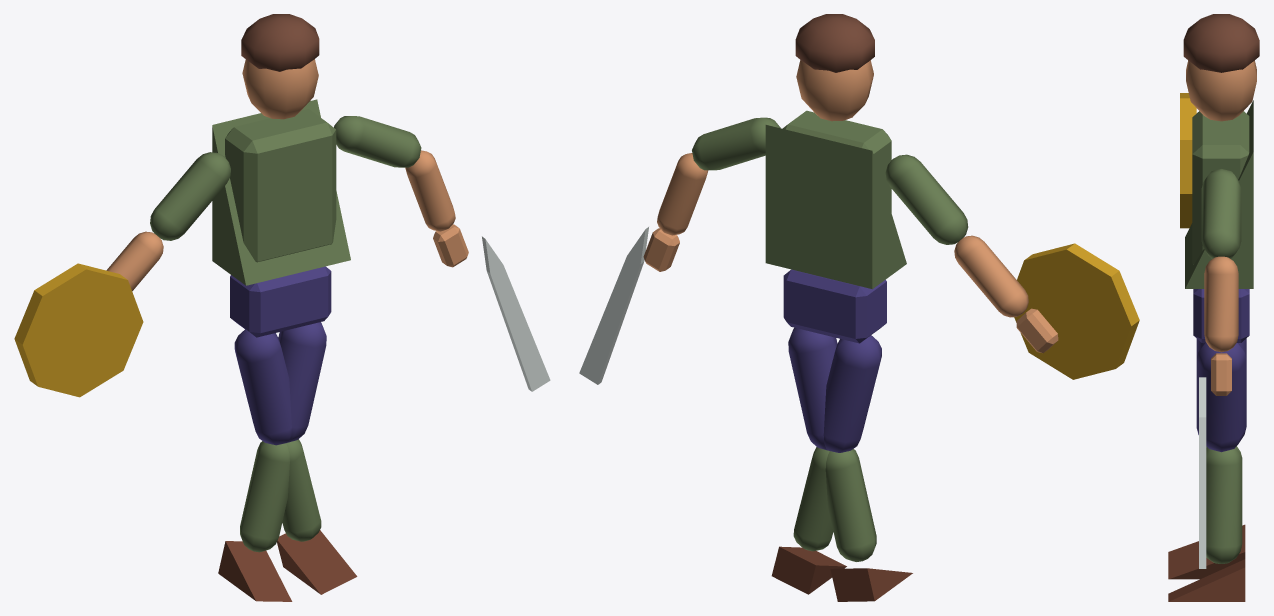
The model's file is adventurer.rustic.glb.
3 renders of one model, left to right at view 1: azimuth 30°, elevation 25°; view 2: azimuth 150°, elevation 25°; view 3: azimuth 270°, elevation 25°, orthographic.
Visible parts, largest first — view 1: torso, accessory.off-hand, tunic, pelvis, thigh.left, shin.right, upper-arm.left, hair, thigh.right, head, upper-arm.right, accessory.main-hand (+6 smaller); view 2: tunic, accessory.off-hand, pelvis, thigh.left, shin.right, upper-arm.left, hair, thigh.right, head, accessory.main-hand, forearm.left, upper-arm.right (+7 smaller); view 3: shin.left, torso, thigh.right, hair, upper-arm.right, head, tunic, forearm.right, foot.left, accessory.off-hand, foot.right, accessory.main-hand (+3 smaller).
Part boxes in pixels (<box>): torso: <box>225,109,336,262</box>; accessory.off-hand: <box>14,263,143,397</box>; tunic: <box>212,99,350,285</box>; pelvis: <box>230,266,331,337</box>; thigh.left: <box>234,329,291,445</box>; shin.right: <box>240,441,289,552</box>; upper-arm.left: <box>150,152,230,240</box>; hair: <box>241,14,319,71</box>; thigh.right: <box>278,322,326,442</box>; head: <box>242,59,318,119</box>; upper-arm.right: <box>334,116,421,167</box>; accessory.main-hand: <box>482,236,550,391</box>; tunic: <box>765,125,906,289</box>; accessory.off-hand: <box>1014,243,1139,379</box>; pelvis: <box>783,269,886,343</box>; thigh.left: <box>823,335,881,452</box>; shin.right: <box>825,449,876,561</box>; upper-arm.left: <box>885,154,968,244</box>; hair: <box>795,14,874,72</box>; thigh.right: <box>788,327,837,450</box>; head: <box>796,60,873,121</box>; accessory.main-hand: <box>579,227,648,384</box>; forearm.left: <box>954,235,1028,317</box>; upper-arm.right: <box>692,117,780,170</box>; shin.left: <box>1206,447,1242,563</box>; torso: <box>1192,111,1249,264</box>; thigh.right: <box>1196,343,1246,452</box>; hair: <box>1183,14,1259,72</box>; upper-arm.right: <box>1201,169,1241,258</box>; head: <box>1186,60,1256,121</box>; tunic: <box>1185,100,1253,288</box>; forearm.right: <box>1204,256,1238,352</box>; foot.left: <box>1168,559,1245,601</box>; accessory.off-hand: <box>1180,93,1196,228</box>; foot.right: <box>1168,524,1245,579</box>; accessory.main-hand: <box>1199,377,1206,568</box>.
Bounding box in the file's own units: 3.02 × 3.01 × 0.4376.
